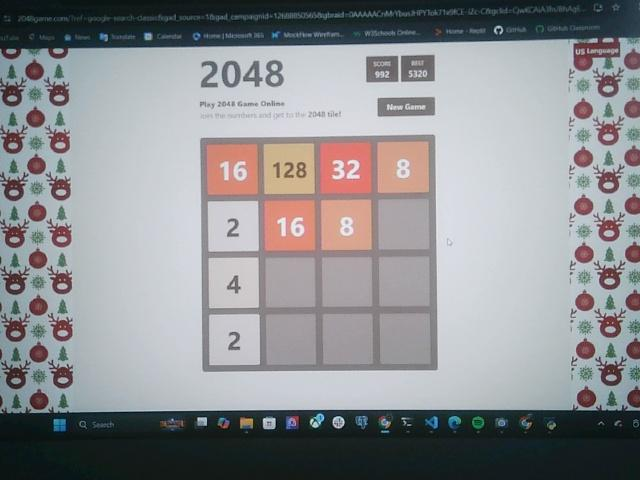board: (201, 137, 437, 370)
tile: (377, 141, 429, 193), (207, 145, 259, 196), (265, 200, 315, 253), (209, 257, 259, 310), (321, 143, 372, 194), (208, 202, 259, 253), (265, 144, 315, 195), (209, 315, 261, 364), (322, 200, 372, 250)
